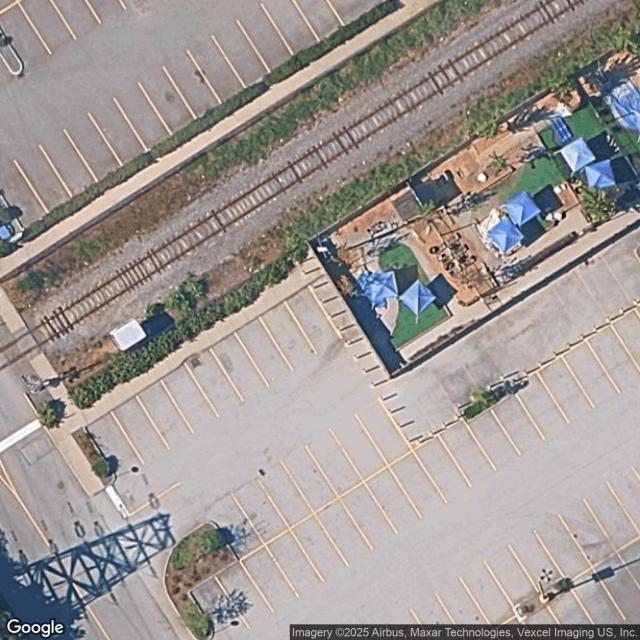lot_boundary: (88, 225, 639, 639), (0, 1, 389, 249)
